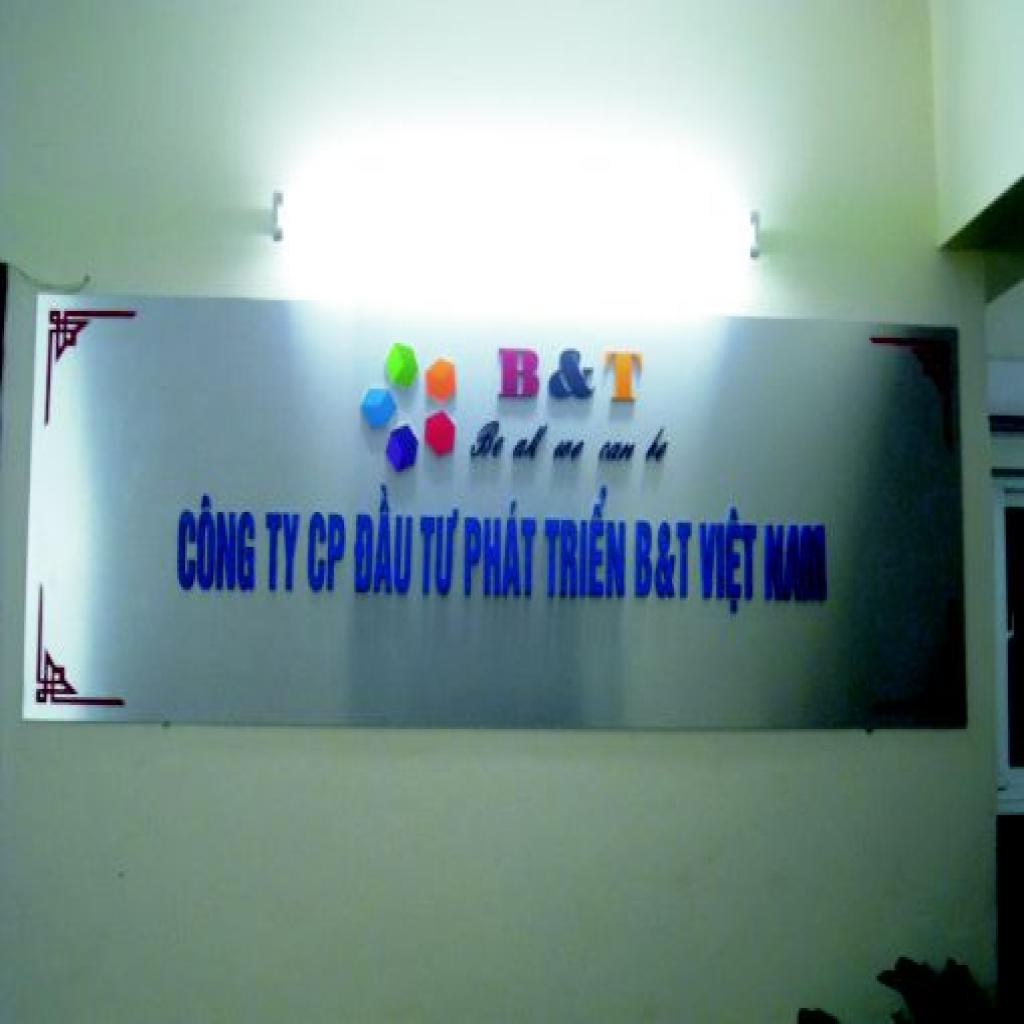text: (541, 482, 634, 600), (173, 488, 264, 598), (463, 496, 539, 603), (354, 480, 421, 600), (696, 504, 761, 619), (762, 523, 831, 606), (632, 515, 696, 603), (304, 509, 352, 598), (418, 506, 463, 600), (264, 510, 306, 600), (545, 343, 604, 405), (601, 343, 648, 410), (495, 343, 543, 405), (467, 418, 511, 464), (593, 434, 644, 469), (509, 424, 551, 464), (549, 434, 596, 469)
